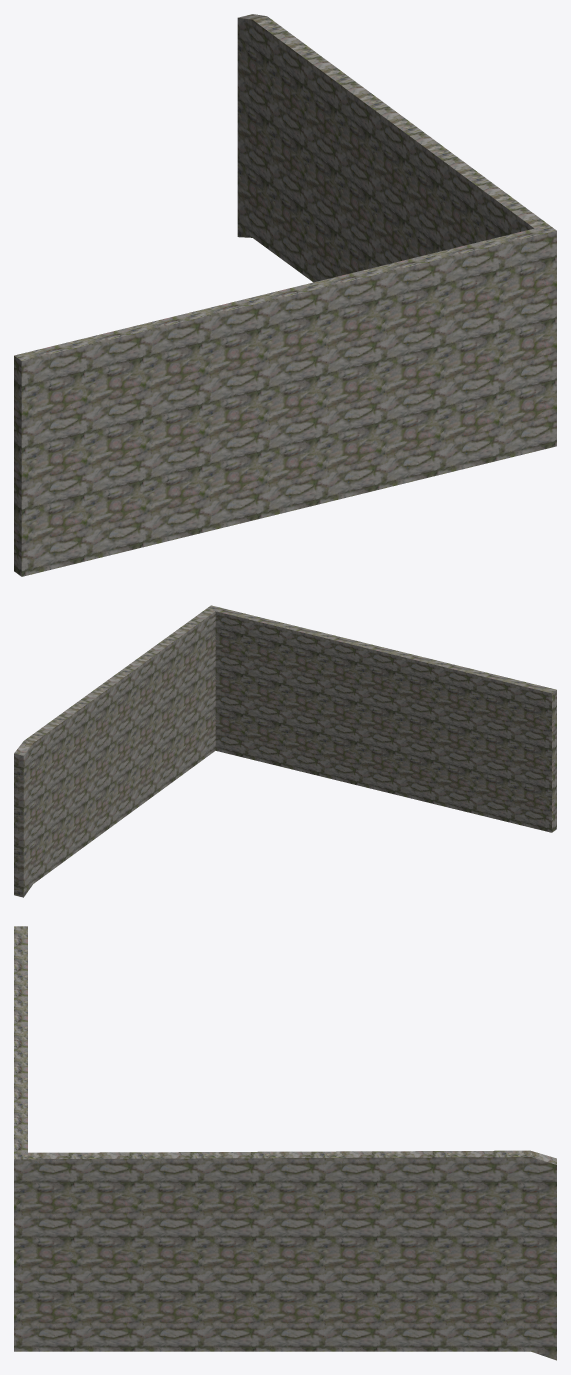
The model's file is MiddlePlatform_Edge.fbx.
3 renders of one model, top to bottom at view 1: azimuth 30°, elevation 25°; view 2: azimuth 150°, elevation 25°; view 3: azimuth 270°, elevation 25°, orthographic. The views are drawn at different scales.
Visible parts, largest first — view 1: MiddlePlatform_Edge; view 2: MiddlePlatform_Edge; view 3: MiddlePlatform_Edge.
Part boxes in pixels (x1=…): MiddlePlatform_Edge: x1=14, y1=14, x2=556, y2=576; MiddlePlatform_Edge: x1=14, y1=605, x2=556, y2=897; MiddlePlatform_Edge: x1=14, y1=926, x2=556, y2=1360.
Size of the model in its own units: 1819 by 740 by 1791.
1 material, 1 textured.
